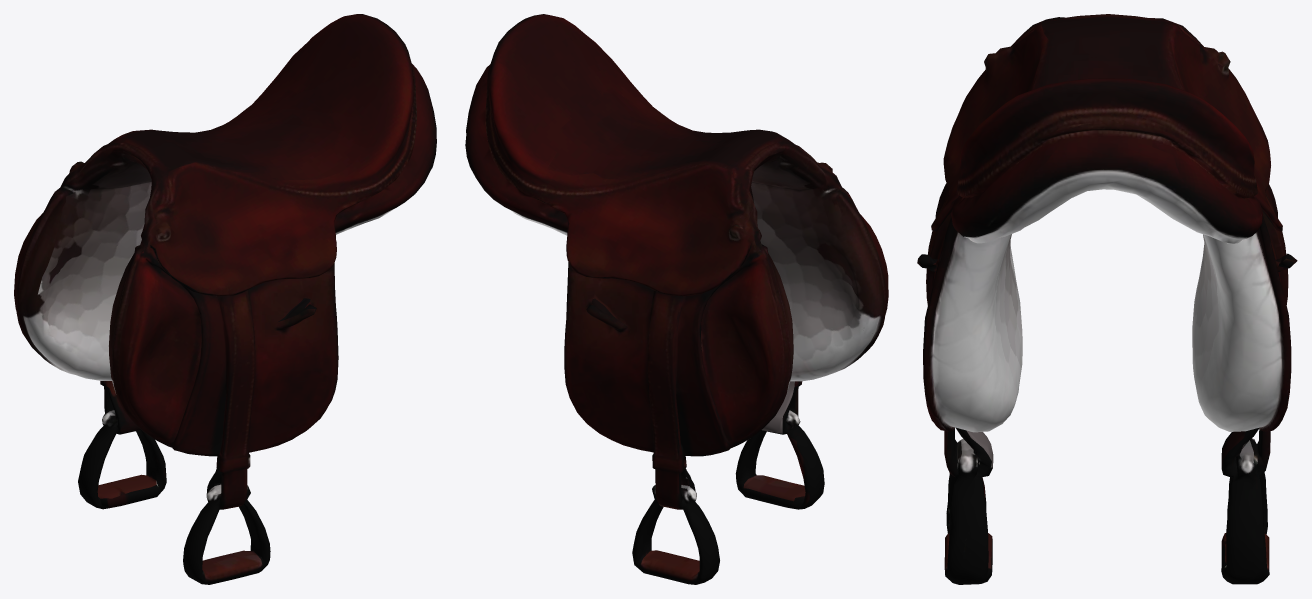
File: saddle_en_textured.glb
The picture shows the model from 3 angles, left to right: view 1: azimuth 30°, elevation 25°; view 2: azimuth 150°, elevation 25°; view 3: azimuth 270°, elevation 25°; orthographic projection. The views are drawn at different scales.
Visible parts, largest first — view 1: temp_mesh.ply; view 2: temp_mesh.ply; view 3: temp_mesh.ply.
Boxes of the visible parts, x1,y1,x2,y2 form: temp_mesh.ply: [14, 14, 436, 584]; temp_mesh.ply: [465, 14, 888, 584]; temp_mesh.ply: [917, 14, 1297, 584].
Size of the model in its own units: 1.55 by 2 by 1.11.
1 material, 1 textured.
